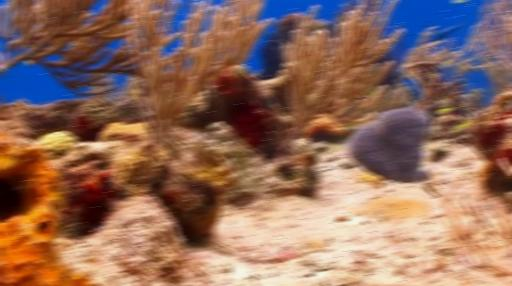Fish: (432, 23, 463, 40), (450, 119, 473, 132), (436, 107, 454, 114), (451, 0, 468, 3)
